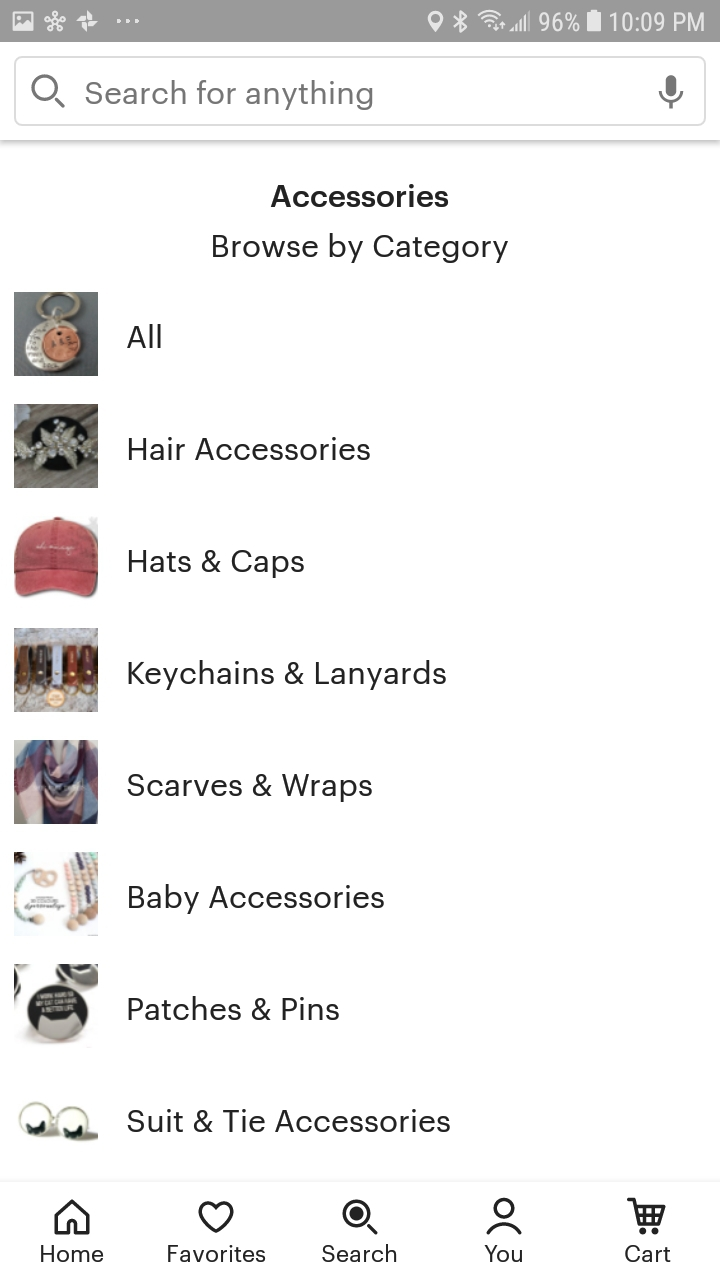EditText: (15, 56, 707, 128)
Icon: (627, 1196, 667, 1235), (486, 1196, 523, 1235), (54, 1198, 91, 1236), (342, 1198, 379, 1235), (32, 74, 67, 110), (198, 1200, 235, 1233), (658, 75, 684, 110)
Image: (14, 628, 99, 713), (14, 404, 99, 489), (14, 292, 99, 377), (15, 740, 100, 825), (15, 852, 99, 937), (14, 517, 99, 599), (15, 964, 99, 1046), (18, 1100, 99, 1142)
Text: (128, 659, 447, 691), (213, 233, 509, 264), (86, 81, 373, 112), (129, 883, 385, 915), (127, 1108, 449, 1133), (127, 773, 373, 803), (129, 436, 371, 461), (128, 996, 340, 1021), (129, 549, 305, 579), (271, 184, 449, 208), (168, 1244, 266, 1263), (322, 1243, 398, 1263), (41, 1244, 105, 1263), (127, 324, 163, 350), (624, 1244, 671, 1263), (484, 1245, 523, 1263)
UpperTaskBar: (1, 1, 720, 43)
